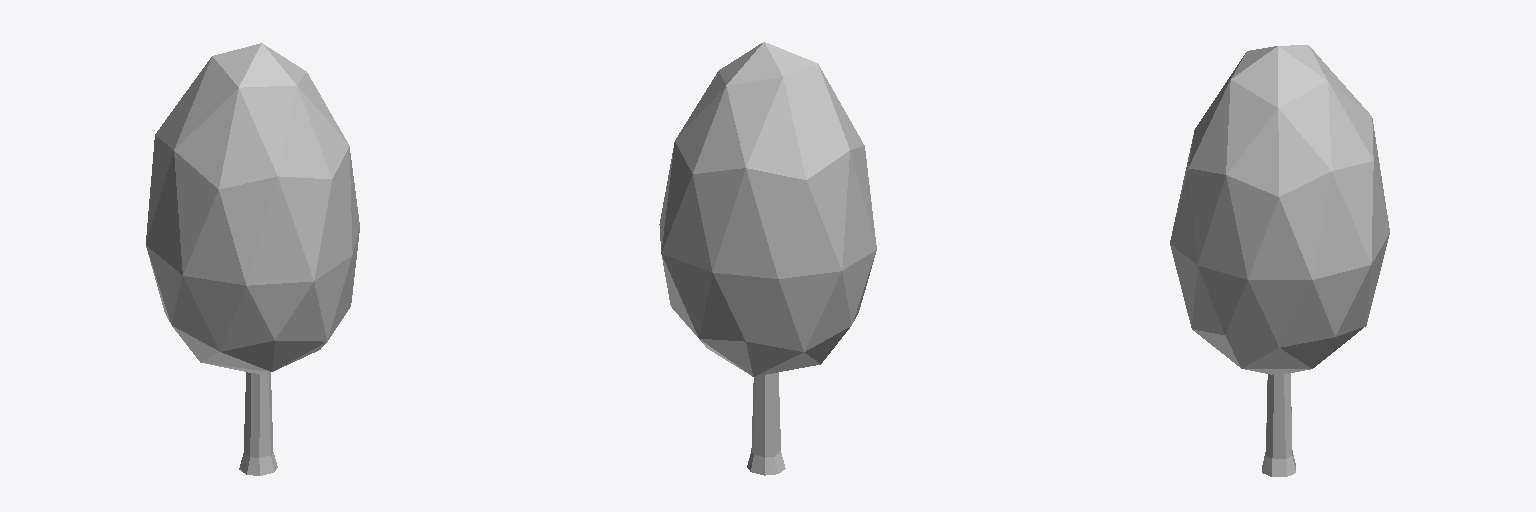
File: Tree_Oak_2.obj
3 views of the same model, side by side, from view 1: azimuth 30°, elevation 25°; view 2: azimuth 150°, elevation 25°; view 3: azimuth 270°, elevation 25° (orthographic).
Parts seen in each view (by area): view 1: Icosphere.083_Icosphere.105, Cube.080_Cube.211; view 2: Icosphere.083_Icosphere.105, Cube.080_Cube.211; view 3: Icosphere.083_Icosphere.105, Cube.080_Cube.211.
Part boxes in pixels (bbox=[...]): Icosphere.083_Icosphere.105: bbox=[146, 43, 359, 374]; Cube.080_Cube.211: bbox=[239, 372, 277, 475]; Icosphere.083_Icosphere.105: bbox=[659, 42, 876, 376]; Cube.080_Cube.211: bbox=[747, 372, 785, 475]; Icosphere.083_Icosphere.105: bbox=[1170, 45, 1389, 374]; Cube.080_Cube.211: bbox=[1262, 373, 1295, 476].
Size of the model in its own units: 2.37 by 5.21 by 2.45.